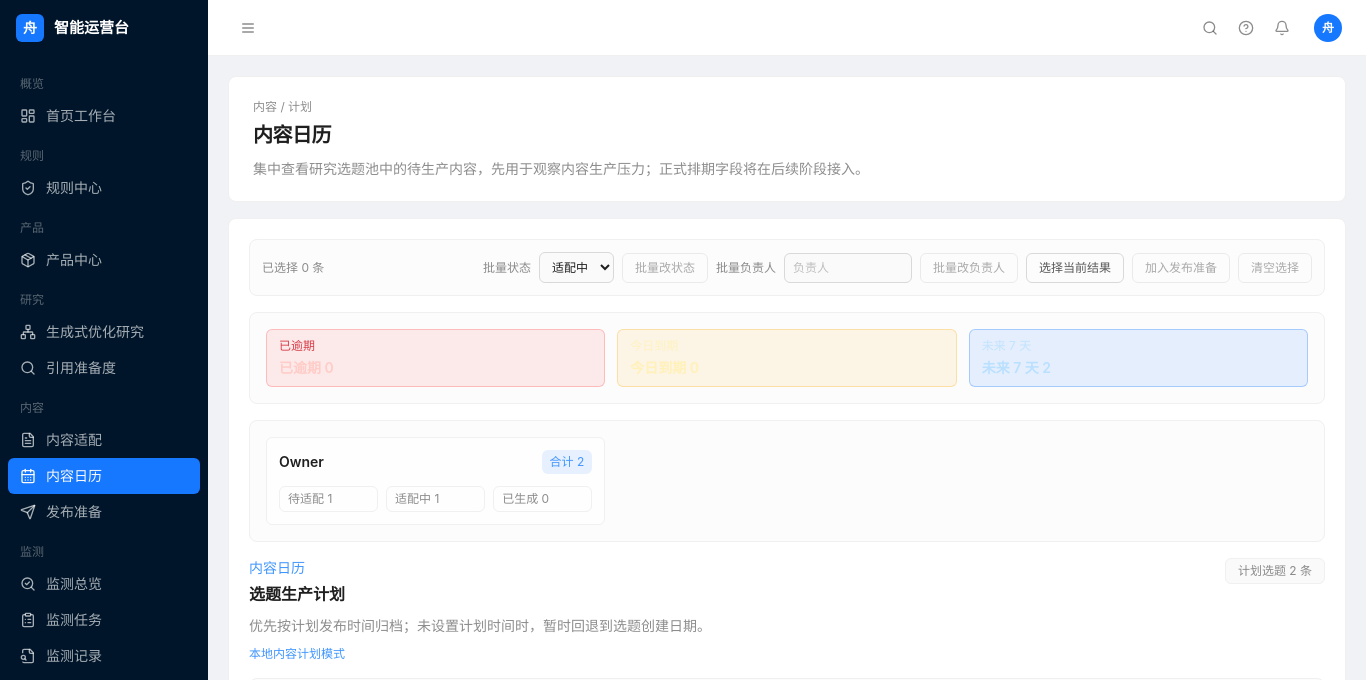
P28 内容日历独立页面 › adds selected content plans to the publish queue without duplicates
Step 1. Click the button "选择当前结果" → (1075, 268), box [1026, 253, 1124, 283]
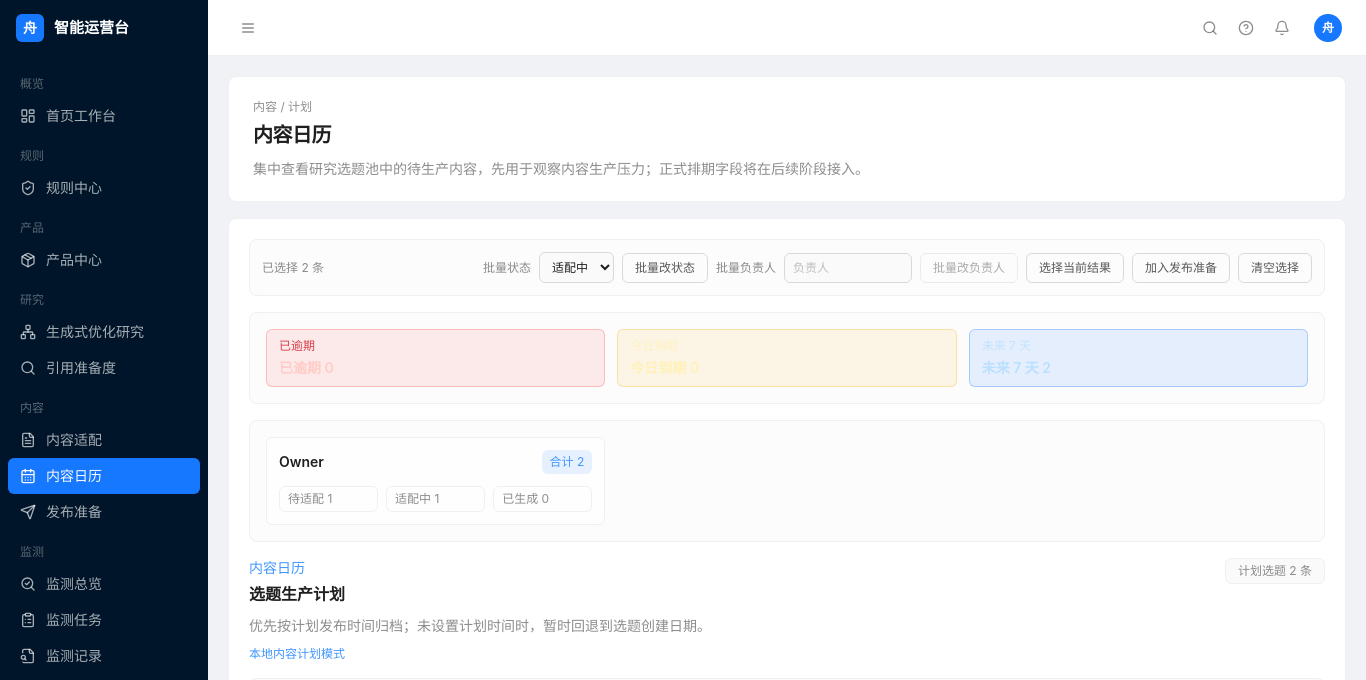
Step 2. Click the button "加入发布准备" → (1181, 268), box [1132, 253, 1230, 283]
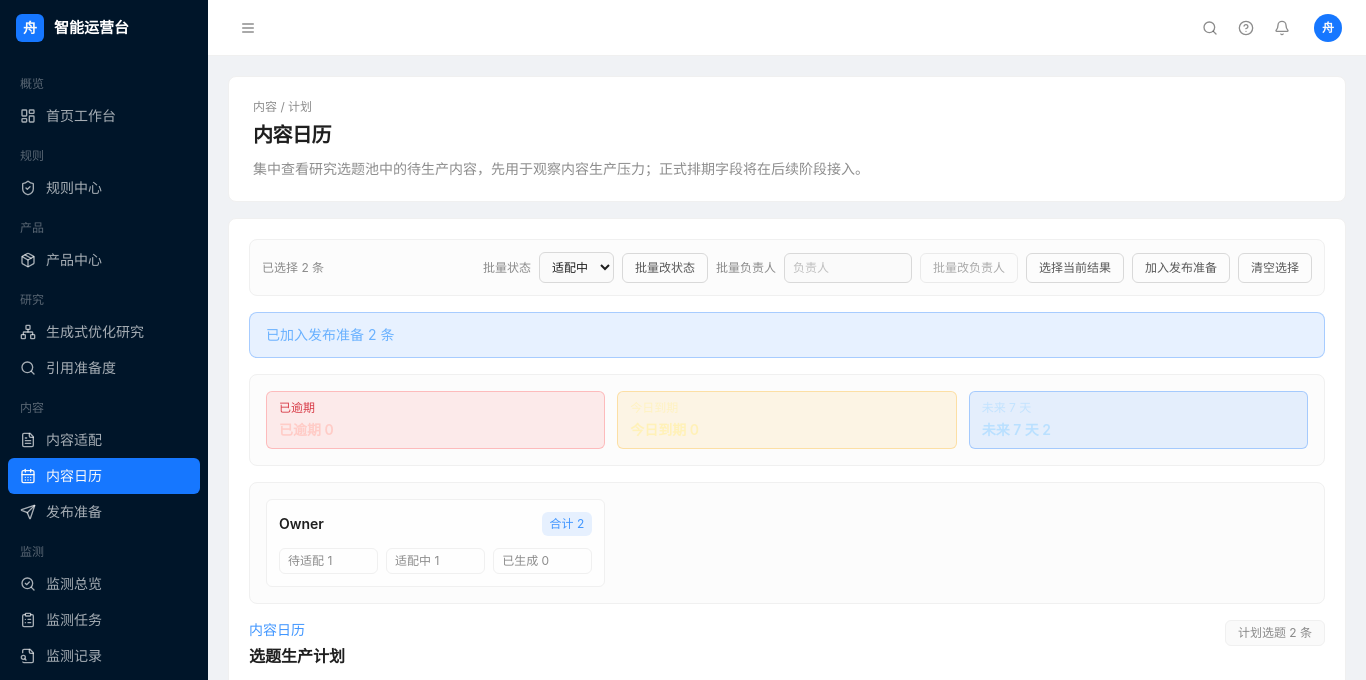
Expected: the message reads "已加入发布准备 2 条", [266, 326, 394, 343]
Step 3. Click the button "加入发布准备" → (1181, 268), box [1132, 253, 1230, 283]
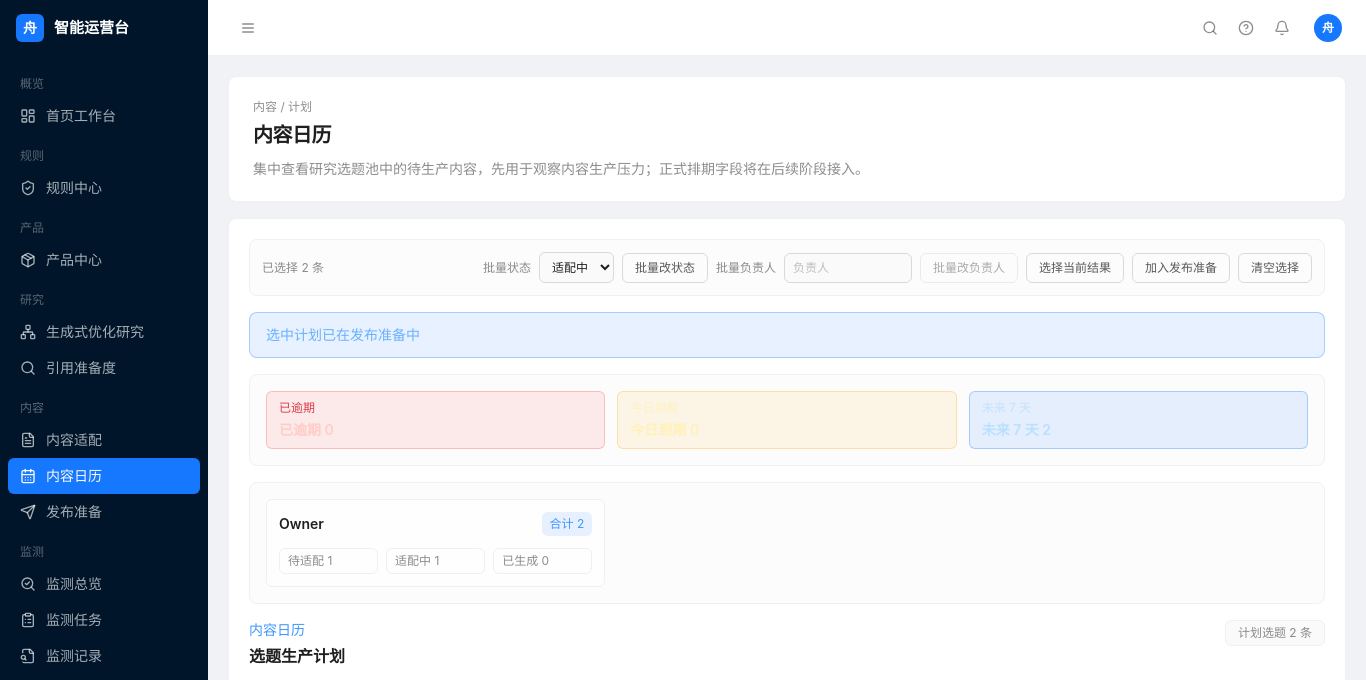
Expected: the message reads "选中计划已在发布准备中", [266, 326, 420, 343]
